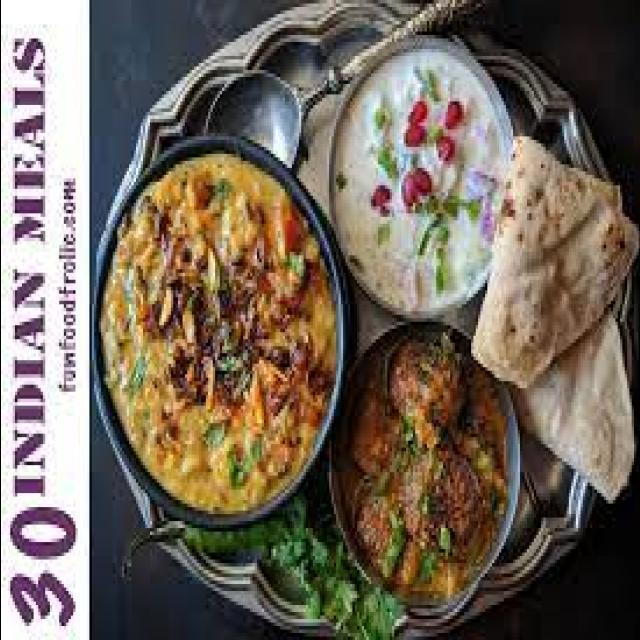roti: (477, 145, 623, 392)
veg-fry: (99, 125, 329, 534), (325, 310, 523, 614)
